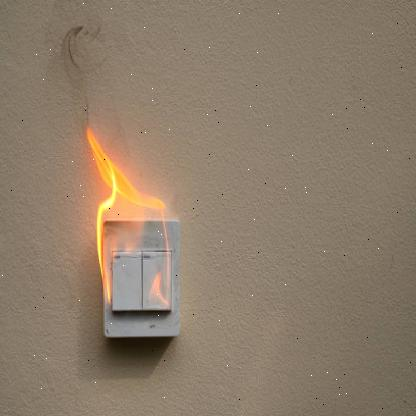fire: (76, 128, 174, 317)
smoke: (54, 9, 111, 123)
